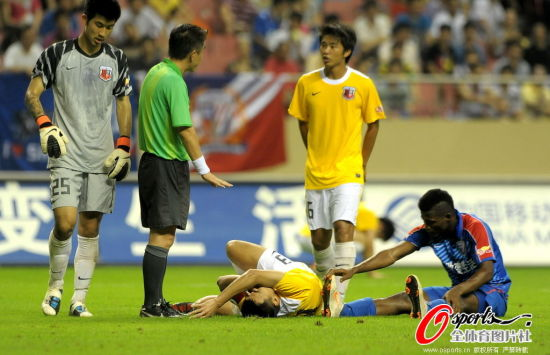10+: (1, 3, 544, 339)
down: (331, 185, 513, 317), (186, 232, 325, 325)
